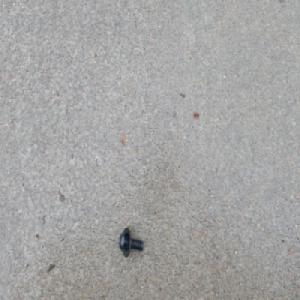BoltWasher: (119, 227, 144, 258)
